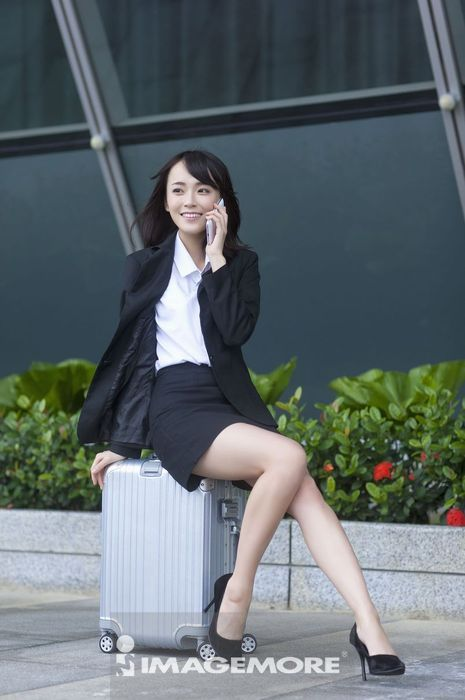phone: (205, 197, 225, 247)
talk: (167, 181, 228, 260)
